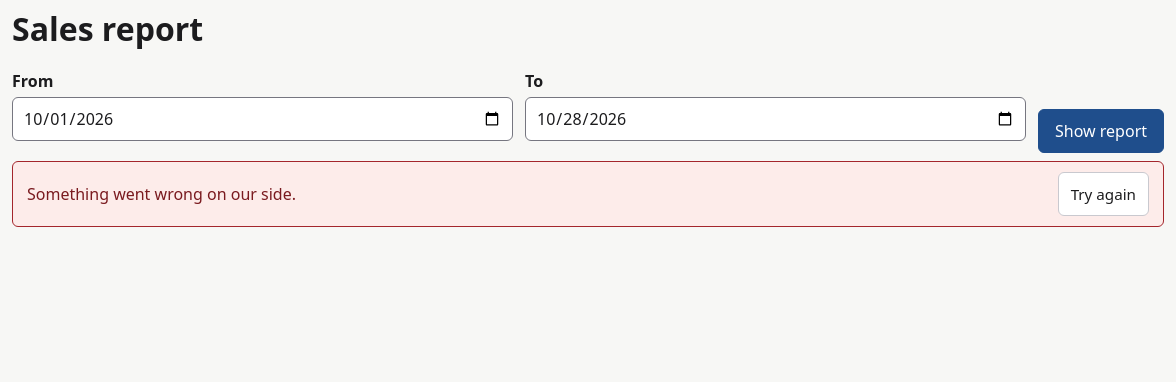
Test: error, loading and retry states (S-23, S-24, S-29; TASK-05) › S-23 sales report: failure shows the error and Try again; no stale or fake success; retry works
Expected: the message shows "Something went wrong on our side.", [27,183,296,205]
Expected: the text "Dune" is not shown
Click the button "Try again". click: (1103, 194)
box: [1058,172,1149,216]
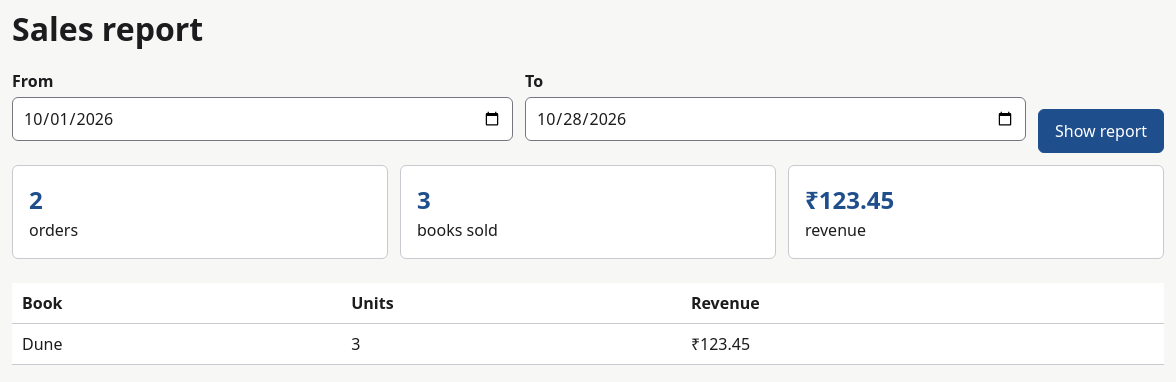
Expected: the text "Dune" is shown, [22,333,62,355]
Expected: the message "Something went wrong on our side. Try again" is gone
